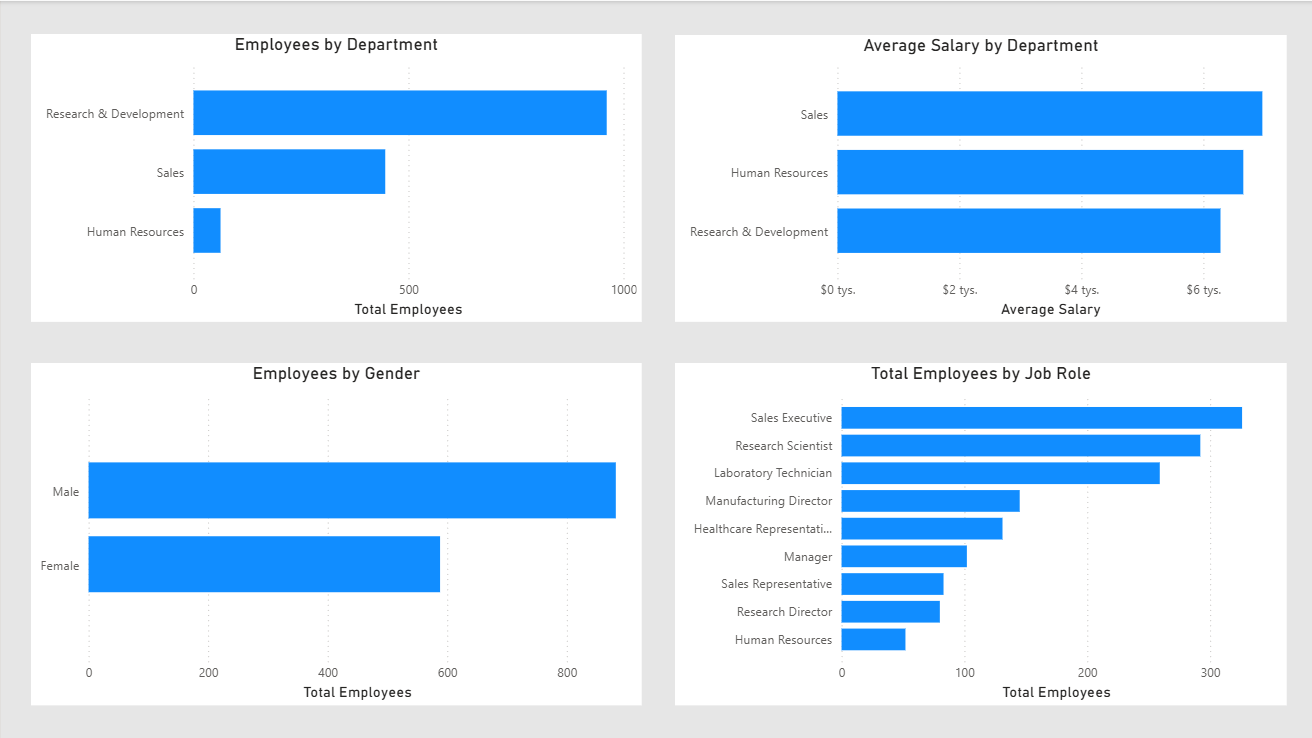

The dashboard page shown, as its layout file describes it:
{"tool":"powerbi","page":{"name":"Employee Details","canvas":[1280,720],"ordinal":2},"visuals":[{"type":"barChart","title":"Employees by Department","fields":{"Y":["FactEmployee.Total Employees"],"Category":["DimDepartment.Department"]},"box":[29.2,32.1,594.3,280.1],"z":0},{"type":"barChart","title":"Employees by Gender","fields":{"Y":["FactEmployee.Total Employees"],"Category":["DimGender.Gender"]},"box":[29.2,352.1,594.3,332.6],"z":1000},{"type":"barChart","title":"Total Employees by Job Role","fields":{"Y":["FactEmployee.Total Employees"],"Category":["DimJobRole.Job Role"]},"box":[655.6,352.1,595.3,332.6],"z":2000},{"type":"barChart","title":"Average Salary by Department","fields":{"Y":["FactEmployee.Average Salary"],"Category":["DimDepartment.Department"]},"box":[655.6,33.1,595.3,279.1],"z":3000}]}

Visuals, with their boxes in screenshot pixels (x1, y1, x2, y2), scaled from the page's 1280x720 canvas onto the 1312x738 screenshot:
"Employees by Department" barChart: bbox(30, 33, 639, 320)
"Employees by Gender" barChart: bbox(30, 361, 639, 702)
"Total Employees by Job Role" barChart: bbox(672, 361, 1282, 702)
"Average Salary by Department" barChart: bbox(672, 34, 1282, 320)
